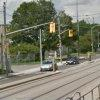Tree: (10, 3, 92, 59)
